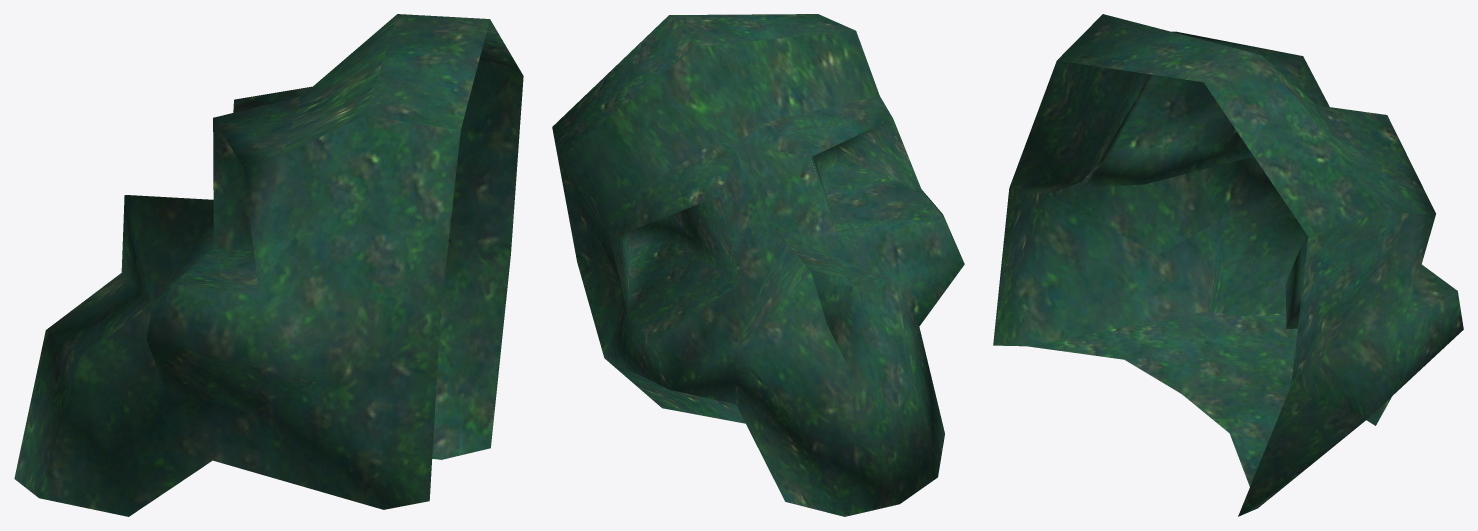
The model's file is MIRKWOOD_MIRK_PLAYSURFACE21.fbx.
3 views of the same model, side by side, from view 1: azimuth 30°, elevation 25°; view 2: azimuth 150°, elevation 25°; view 3: azimuth 270°, elevation 25° (orthographic). The views are drawn at different scales.
Visible parts, largest first — view 1: MIRKWOOD_MIRK_PLAYSURFACE21; view 2: MIRKWOOD_MIRK_PLAYSURFACE21; view 3: MIRKWOOD_MIRK_PLAYSURFACE21.
Boxes of the visible parts, x1,y1,x2,y2 form: MIRKWOOD_MIRK_PLAYSURFACE21: [14, 14, 523, 516]; MIRKWOOD_MIRK_PLAYSURFACE21: [552, 14, 964, 516]; MIRKWOOD_MIRK_PLAYSURFACE21: [993, 14, 1463, 516].
Bounding box in the file's own units: 7781 × 7363 × 6945.
1 material, 1 textured.
